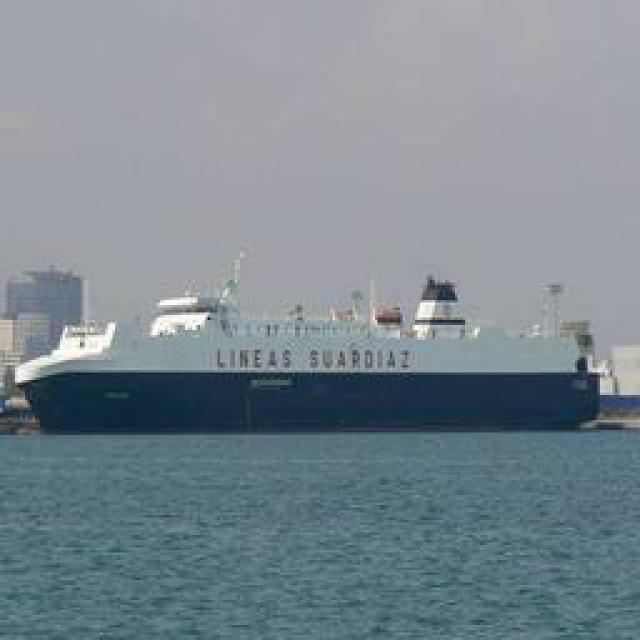Ship: (22, 259, 610, 434)
